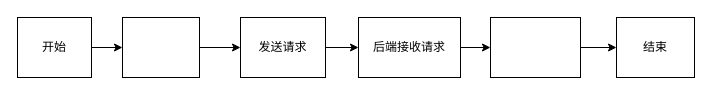
The diagram is 712 pixels wide and 95 high, and some of its shapes have lost their labels. The box of each missing label's shape, as (x1, y1, x2, y2) in pixels:
插入数据库: (490, 16, 580, 78)
输入假日信息: (122, 16, 200, 78)
